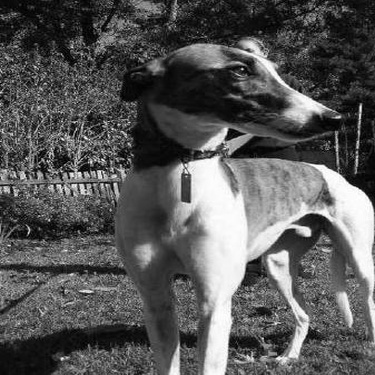dog: (106, 35, 370, 372)
